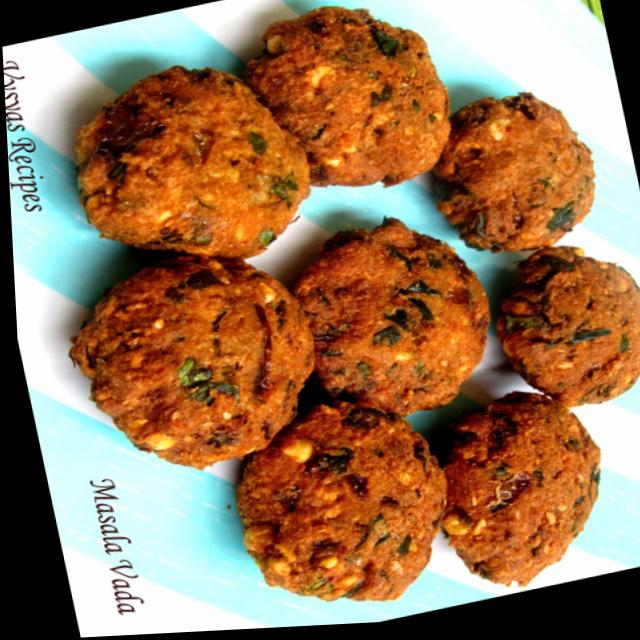VADA: (72, 2, 640, 601)
